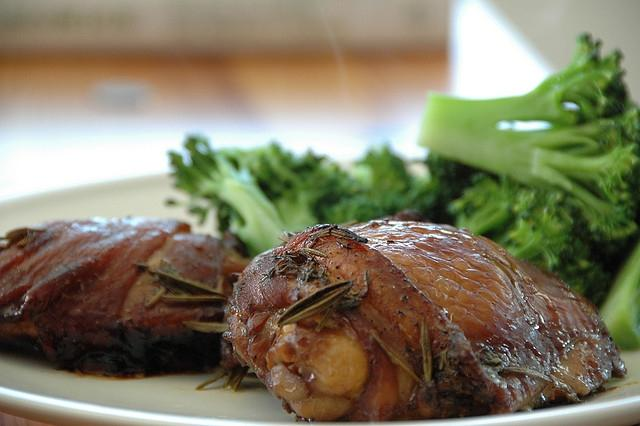broccoli: (416, 29, 640, 251), (164, 132, 287, 261), (234, 142, 361, 233), (387, 152, 503, 228), (514, 189, 603, 283), (448, 172, 520, 234), (598, 242, 640, 348), (345, 146, 411, 208)
